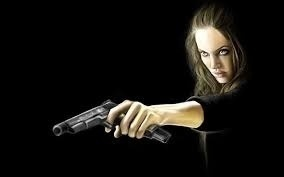pistol: (52, 100, 140, 146)
